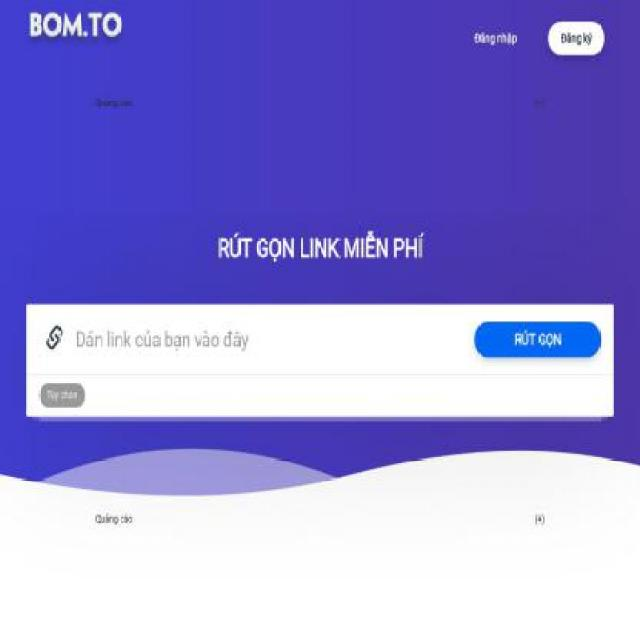button: (16, 9, 135, 51), (474, 321, 600, 357), (462, 22, 529, 56), (548, 22, 604, 56), (40, 383, 86, 408), (532, 92, 548, 114), (532, 508, 548, 530)
field: (70, 321, 456, 357)
